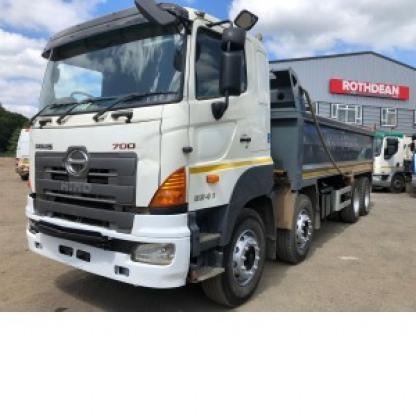dump_truck: (23, 7, 372, 301)
